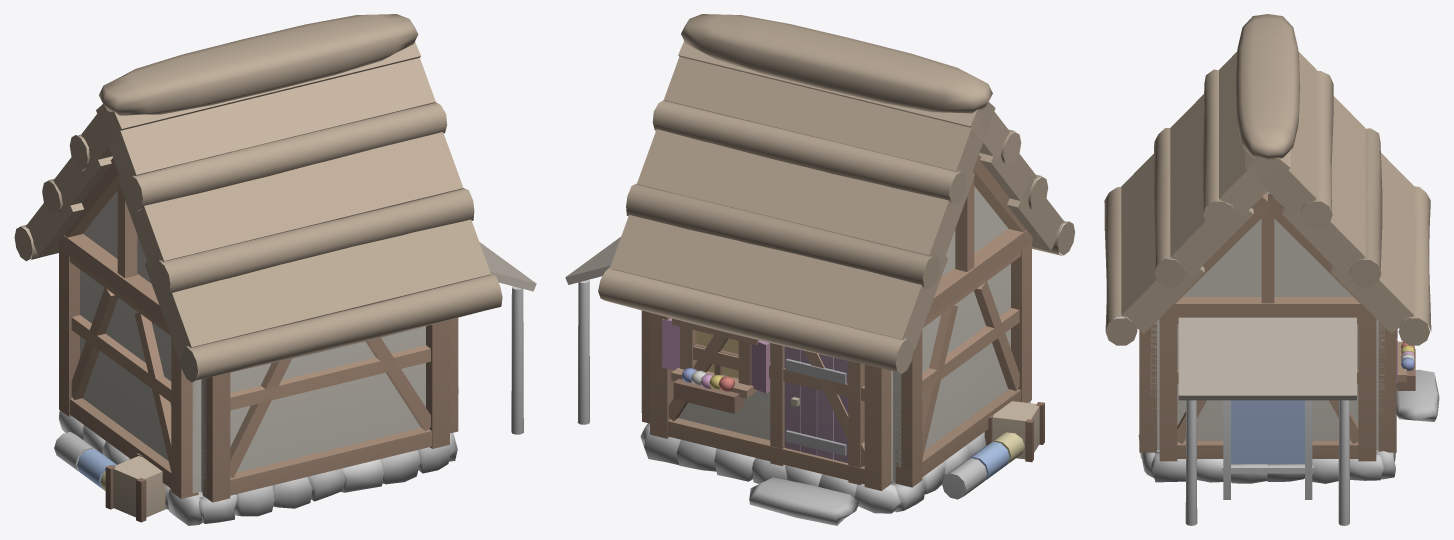
The model's file is hw_weavers_hut.glb.
3 views of the same model, side by side, from view 1: azimuth 30°, elevation 25°; view 2: azimuth 150°, elevation 25°; view 3: azimuth 270°, elevation 25° (orthographic). The views are drawn at different scales.
Parts seen in each view (by area): view 1: Building; view 2: Building; view 3: Building.
Boxes of the visible parts, x1,y1,x2,y2 form: Building: [14, 14, 536, 525]; Building: [565, 14, 1074, 525]; Building: [1104, 14, 1439, 525].
Size of the model in its own units: 3.24 by 3.12 by 2.63.
